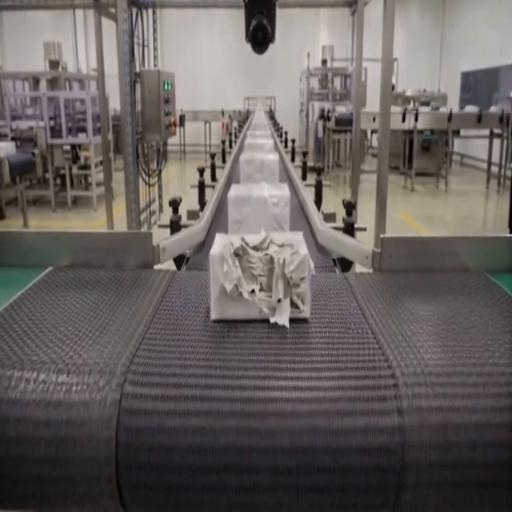defective: (209, 230, 314, 323)
good: (228, 182, 290, 236), (239, 151, 281, 186), (244, 134, 276, 154), (247, 107, 273, 130), (246, 127, 274, 141)
